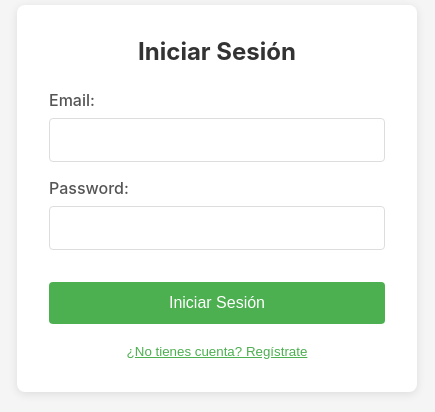
Test: Login Component › deshabilita el botón mientras está cargando
This screenshot has width=435, height=412.
Step 1. Type "test@example.com" into the field labelled "Email:" → x=217, y=140, box left=49, top=118, right=385, bottom=162
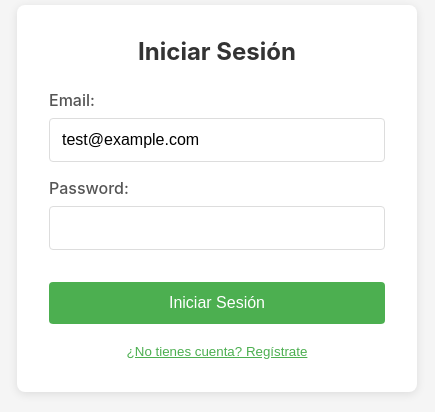
Step 2. Type "123456" into the password field labelled "Password:" → x=217, y=228, box left=49, top=206, right=385, bottom=250
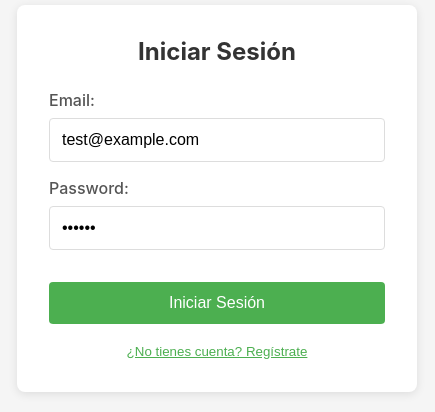
Step 3. Click the button "Iniciar Sesión" → x=217, y=302, box left=49, top=282, right=385, bottom=324
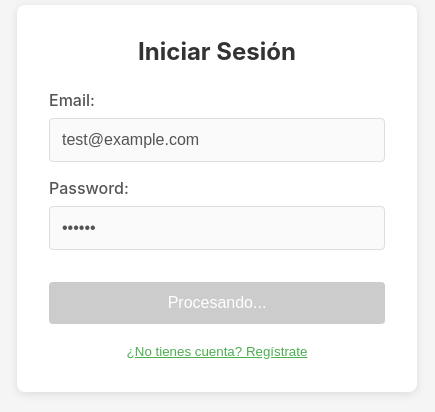
Expected: the button named "iniciar sesión" is disabled, left=49, top=282, right=385, bottom=324
